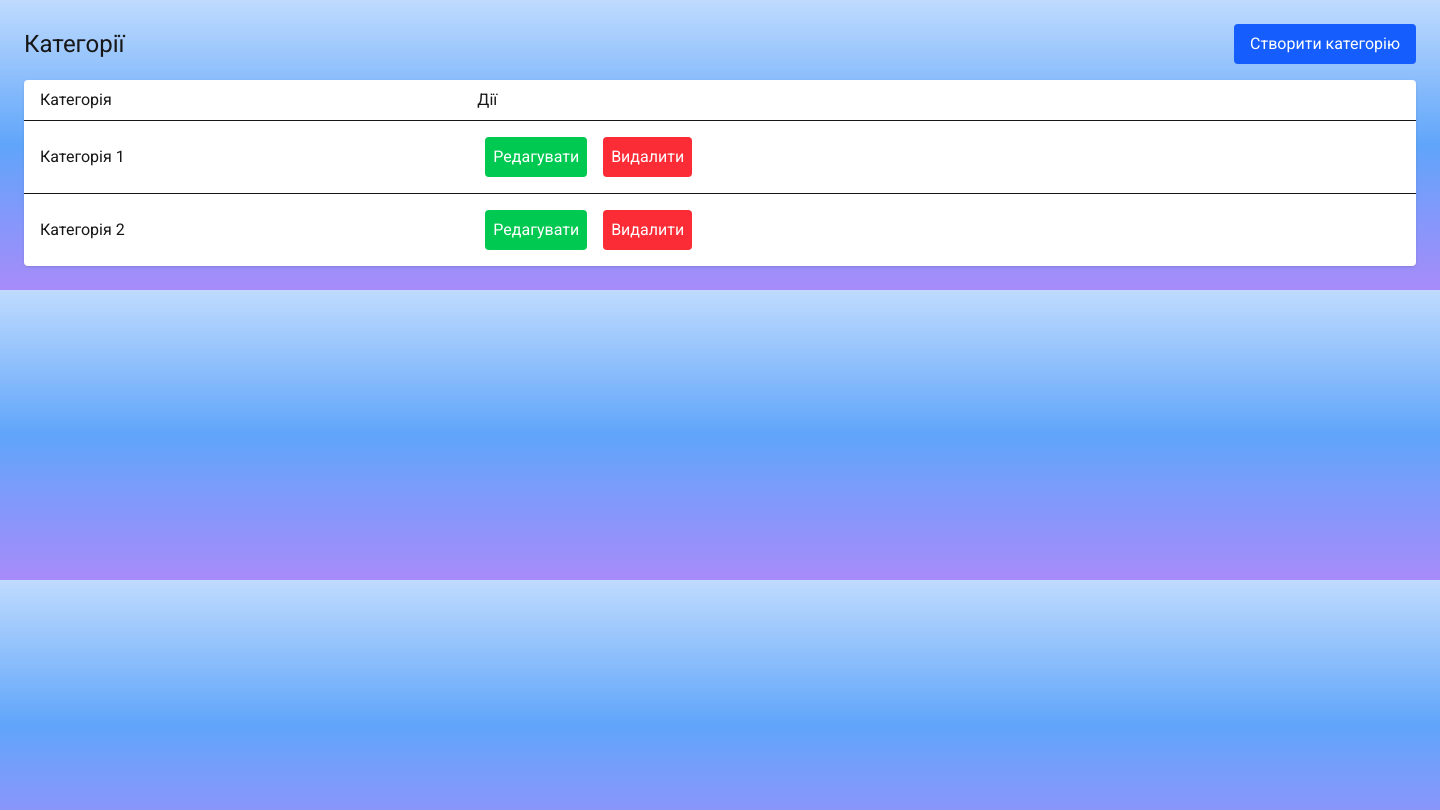
Scenario: CategoryManager › редагує категорію при натисканні на кнопку 'Редагувати'
Expected: the text "Категорія 1" is shown, [24, 120, 461, 194]
Step 1. Click the button "Редагувати" in the row of "Категорія 1" → (536, 157), box [485, 137, 587, 177]
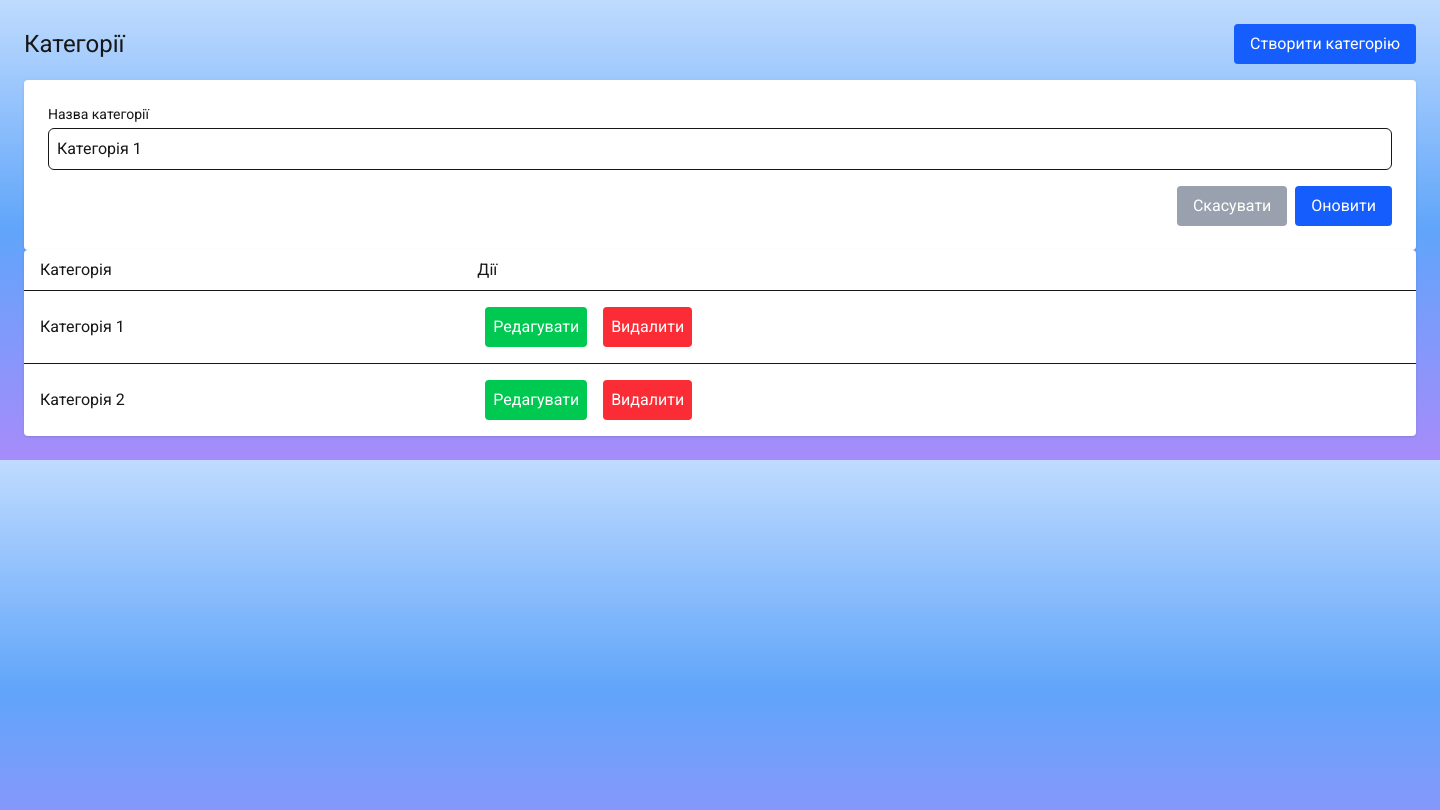
Result: the field labelled "Назва категорії" holds "Категорія 1" at [48, 128, 1392, 170]
